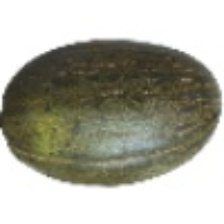honeydew: (38, 6, 210, 190)
